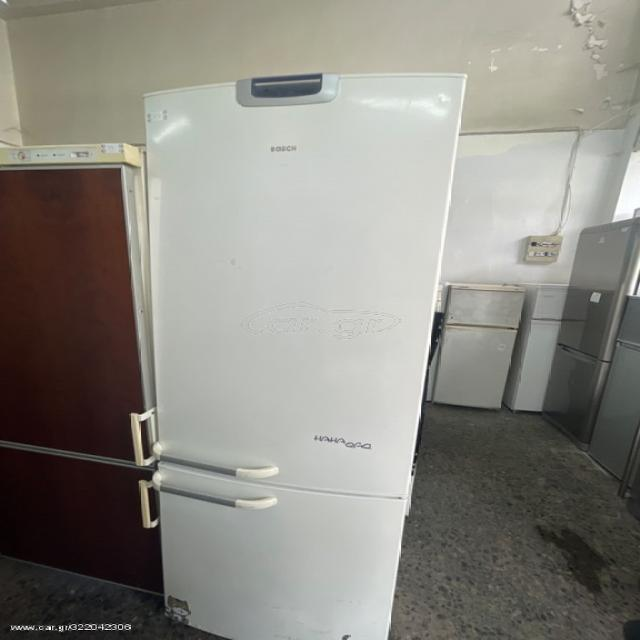refrigerator: (148, 72, 467, 640), (0, 145, 166, 596), (542, 217, 640, 417), (510, 286, 594, 409), (445, 282, 508, 412)
